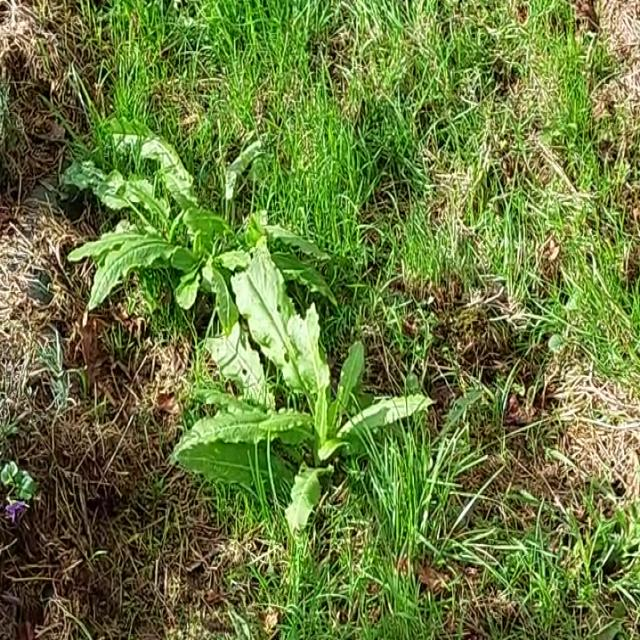organic waste: (155, 241, 455, 579), (34, 75, 315, 362)
